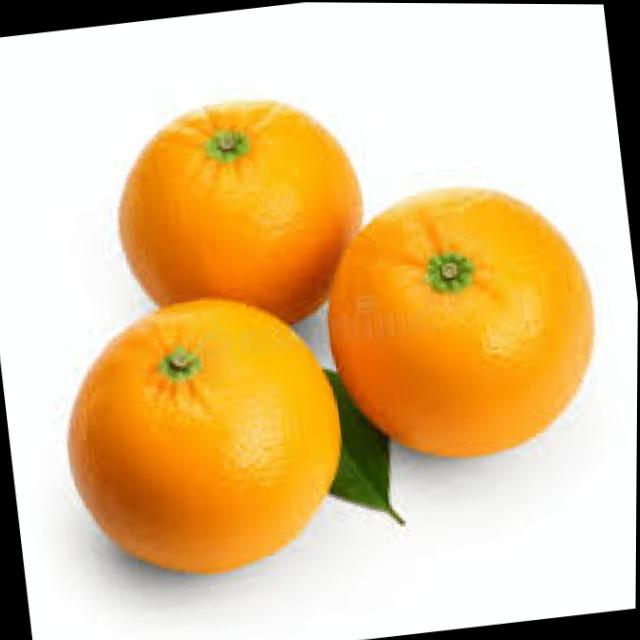orange: (45, 282, 358, 595), (315, 176, 607, 476), (105, 87, 375, 342)
